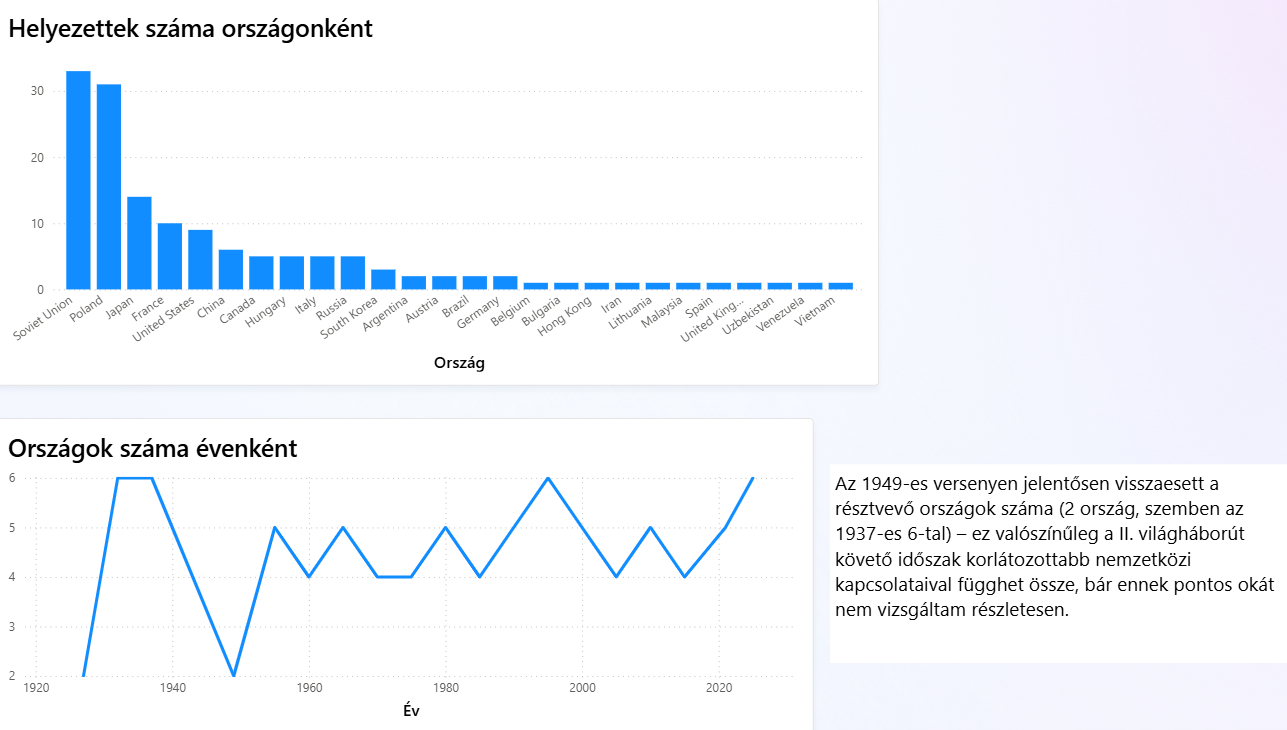

The page's visual inventory and layout, read from the dashboard file:
{"tool":"powerbi","page":{"name":"Page 1","canvas":[1280,720],"ordinal":0},"visuals":[{"type":"clusteredColumnChart","title":"Helyezettek száma országonként","fields":{"Category":["Chopin versenyek.Ország"],"Y":["CountNonNull(Chopin versenyek.Név)"]},"box":[9.6,0,721.8,359.5],"z":0},{"type":"lineChart","title":"Országok száma évenként","fields":{"Category":["Chopin versenyek.Év"],"Y":["Count(Chopin versenyek.Ország)"]},"box":[9.6,370.5,801.4,349.9],"z":1},{"type":"textbox","box":[826.1,421.3,454.2,194.9],"z":2}]}

Visuals, with their boxes in screenshot pixels (x1, y1, x2, y2), scaled from the page's 1280x720 canvas onto the 1287x730 screenshot:
"Helyezettek száma országonként" clusteredColumnChart: crop(10, 0, 735, 364)
"Országok száma évenként" lineChart: crop(10, 376, 815, 729)
textbox: crop(831, 427, 1286, 625)
